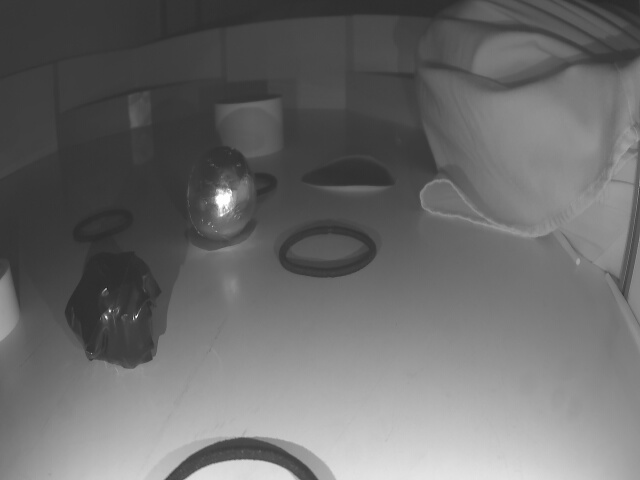Dead: (60, 261, 167, 367)
Live: (175, 149, 255, 239)
Point: (60, 78, 221, 151), (348, 71, 427, 128)
